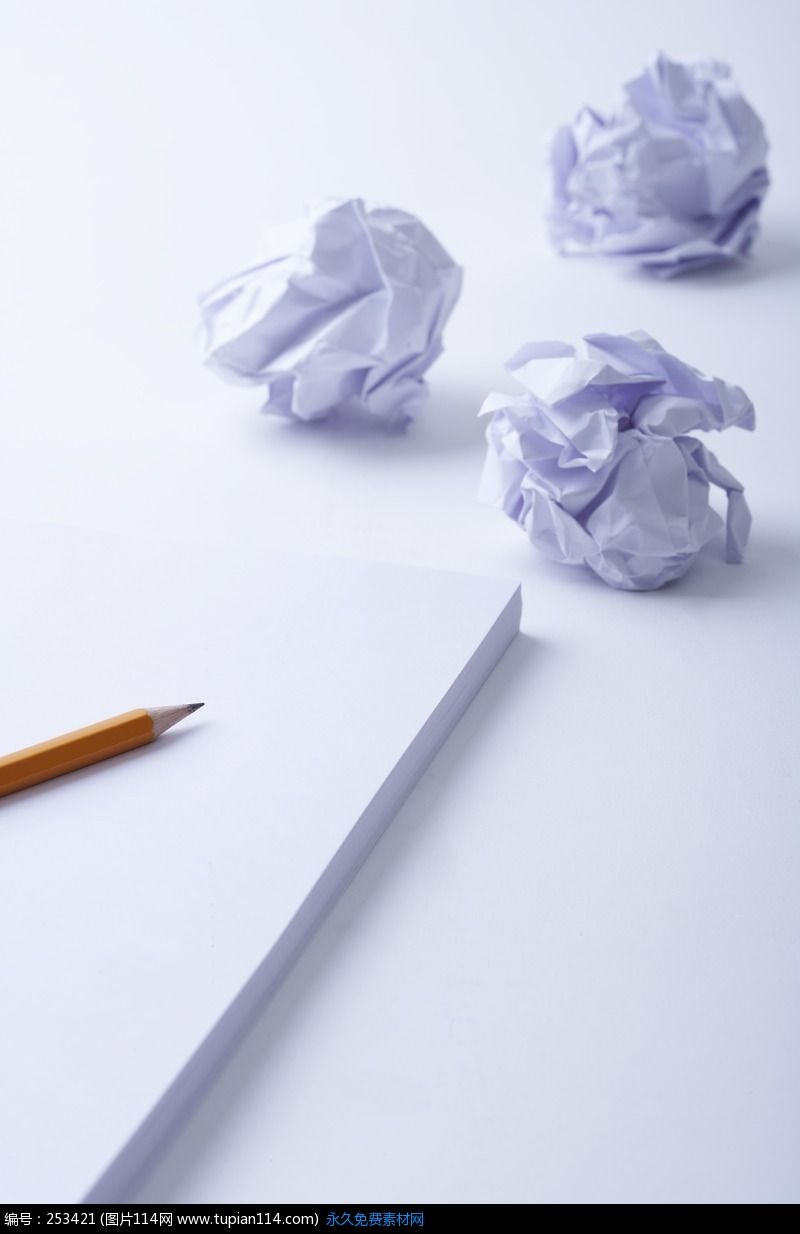flexible: (465, 335, 762, 590), (200, 197, 465, 437), (533, 57, 774, 277)
